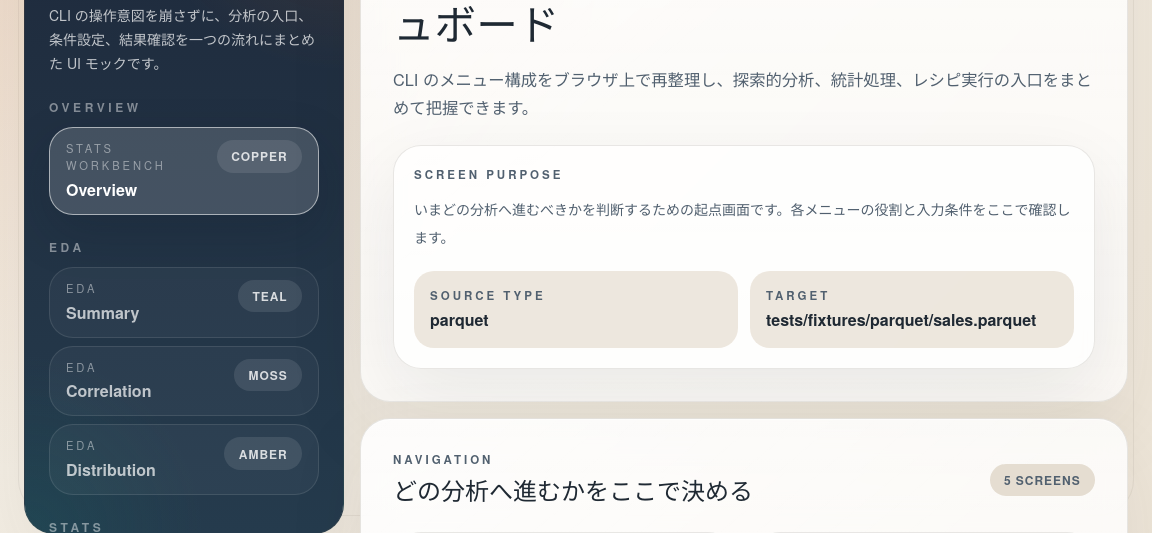
Stats Workbench web dashboard › renders distribution bins after execution
Click the button "EDA Distribution Amber" at (82, 445), box [49,424,319,495]
(page scrolled)
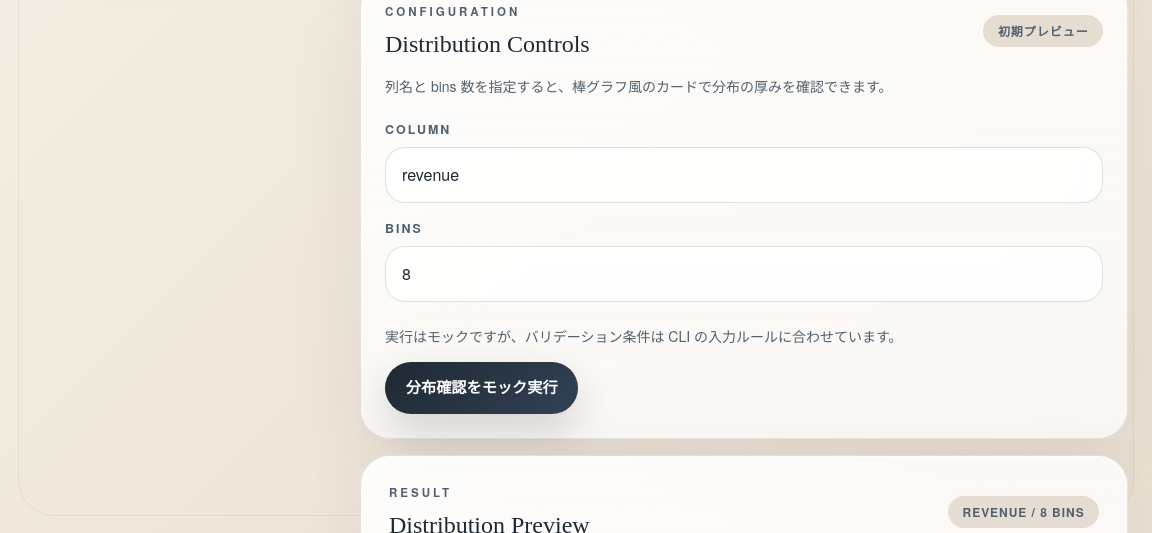
Type "price" into the field labelled "Column" at (744, 175), box [385,146,1103,203]
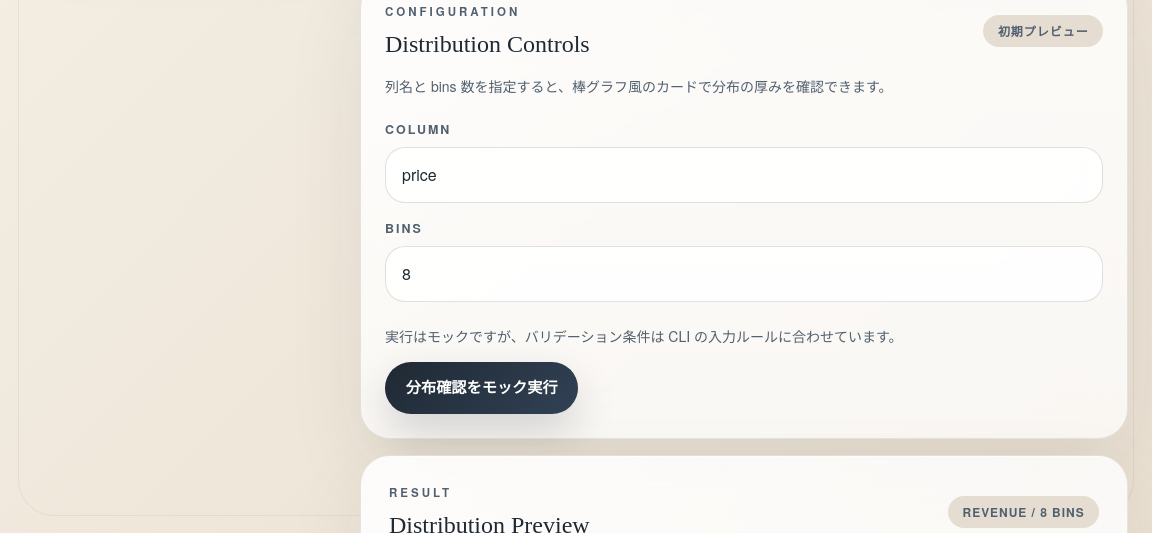
Replace the text in the number field labelled "Bins" with "5" at (744, 274), box [385,246,1103,302]
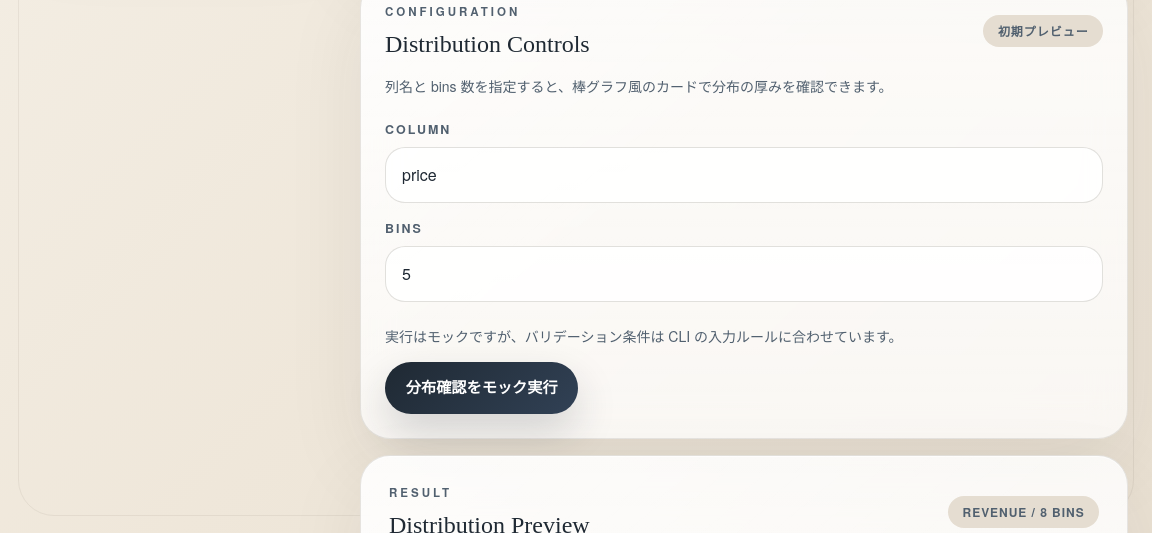
Click the button "分布確認をモック実行" at (482, 388), box [385,362,578,414]
(page scrolled)
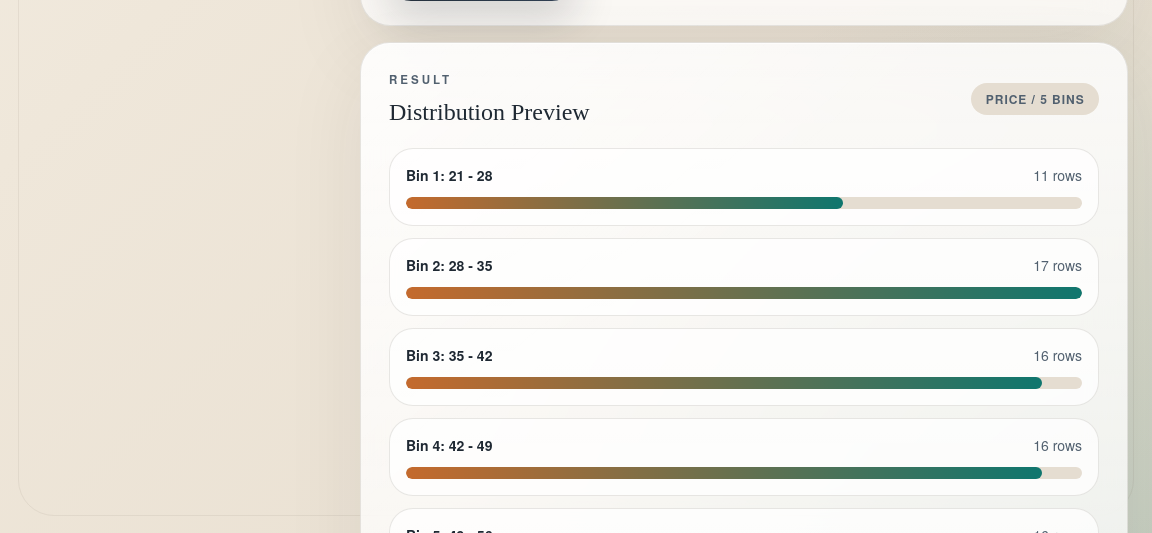
expect the text "price / 5 bins" is shown: met, box [971,83,1099,115]
expect the text "Bin 1: 21 - 28" is shown: met, box [406,165,492,185]
